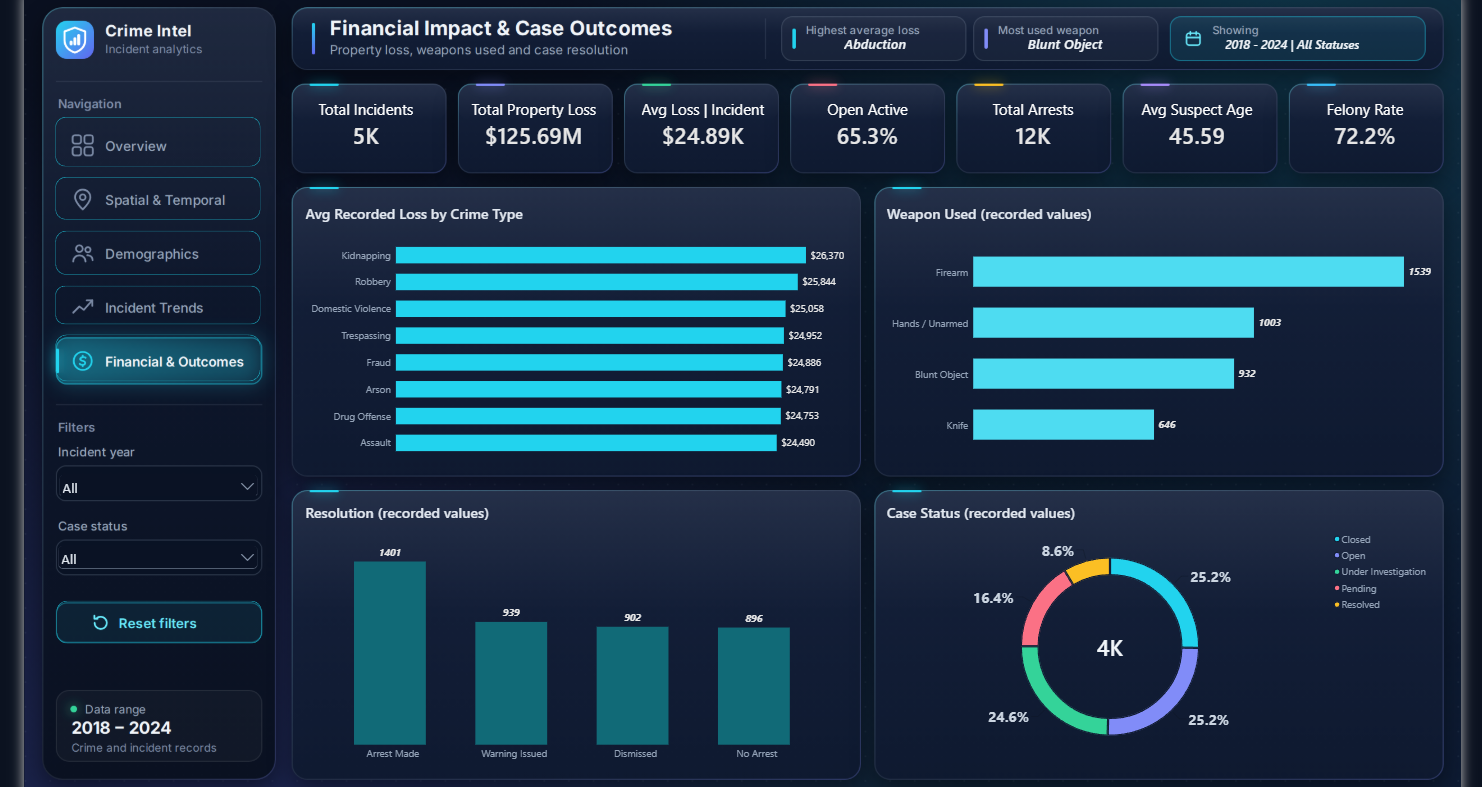

Layout of this report page (visuals, bound fields, positions):
{"tool":"powerbi","page":{"name":"Financial & Outcomes Analysis","canvas":[2560,1440],"ordinal":4},"visuals":[{"type":"slicer","fields":{"Values":["crime_incidents_cleaned.incident_year"]},"box":[58.9,854,363.2,41.7],"z":0},{"type":"slicer","fields":{"Values":["crime_incidents_cleaned.case_status"]},"box":[56.4,981.6,365.6,58.9],"z":1000},{"type":"clusteredColumnChart","title":"Resolution (recorded values)","fields":{"Category":["crime_incidents_cleaned.resolution"],"Y":["Measures (2).Total Incidents"]},"box":[485.9,895.7,991.4,493.3],"z":2000},{"type":"clusteredBarChart","title":"Weapon Used (recorded values)","fields":{"Category":["crime_incidents_cleaned.Weapon Group"],"Y":["Measures (2).Total Incidents"]},"box":[1521.5,363.2,1001.2,490.8],"z":3000},{"type":"donutChart","title":"Case Status (recorded values)","fields":{"Category":["crime_incidents_cleaned.case_status"],"Y":["Measures (2).Total Incidents"]},"box":[1521.5,895.7,1001.2,493.3],"z":4000},{"type":"clusteredBarChart","title":"Avg Recorded Loss by Crime Type","fields":{"Category":["crime_incidents_cleaned.crime_type"],"Y":["Measures (2).Avg Recorded Loss"]},"box":[485.9,363.2,991.4,490.8],"z":5000},{"type":"shape","box":[56.4,223.3,365.6,88.3],"z":6000},{"type":"shape","box":[56.4,424.5,365.6,78.5],"z":7000},{"type":"shape","box":[56.4,522.7,365.6,68.7],"z":8000},{"type":"shape","box":[56.4,611,365.6,83.4],"z":9000},{"type":"shape","box":[58.9,1084.7,365.6,76.1],"z":10000},{"type":"shape","box":[56.4,328.8,365.6,76.1],"z":11000},{"type":"cardVisual","fields":{"Data":["Measures (2).Total Incidents"]},"box":[485.9,176.7,247.9,135],"z":12000},{"type":"cardVisual","fields":{"Data":["Measures (2).Total Property Loss"]},"box":[777.9,176.7,262.6,135],"z":13000},{"type":"cardVisual","fields":{"Data":["Measures (2).Avg Loss Per Incident"]},"box":[1082.2,176.7,255.2,135],"z":14000},{"type":"cardVisual","fields":{"Data":["Measures (2).Total Arrests"]},"box":[1668.7,176.7,255.2,135],"z":15000},{"type":"cardVisual","fields":{"Data":["Measures (2).Open Active Pct"]},"box":[1371.8,176.7,262.6,135],"z":16000},{"type":"cardVisual","fields":{"Data":["Measures (2).Avg Suspect Age"]},"box":[1955.8,176.7,269.9,135],"z":17000},{"type":"cardVisual","fields":{"Data":["Measures (2).Felony Rate Pct"]},"box":[2255.2,176.7,267.5,135],"z":18000},{"type":"cardVisual","fields":{"Data":["Measures (2).Finance Fact 1"]},"box":[1358,54,316.6,73.6],"z":18001},{"type":"cardVisual","fields":{"Data":["Measures (2).Finance Fact 2"]},"box":[1696,54,316.6,73.6],"z":18002},{"type":"cardVisual","fields":{"Data":["Measures (2).Header Showing"]},"box":[2027,63.8,466.3,56.4],"z":18003}]}

Visuals, with their boxes on the page's 2560x1440 design canvas (x1, y1, x2, y2). These are canvas units, not pixel positions in the 1482x787 screenshot, which may show the page scaled, cropped or inside an application window:
slicer - crime_incidents_cleaned.incident_year: box=[59, 854, 422, 896]
slicer - crime_incidents_cleaned.case_status: box=[56, 982, 422, 1040]
"Resolution (recorded values)" clusteredColumnChart: box=[486, 896, 1477, 1389]
"Weapon Used (recorded values)" clusteredBarChart: box=[1522, 363, 2523, 854]
"Case Status (recorded values)" donutChart: box=[1522, 896, 2523, 1389]
"Avg Recorded Loss by Crime Type" clusteredBarChart: box=[486, 363, 1477, 854]
shape: box=[56, 223, 422, 312]
shape: box=[56, 424, 422, 503]
shape: box=[56, 523, 422, 591]
shape: box=[56, 611, 422, 694]
shape: box=[59, 1085, 424, 1161]
shape: box=[56, 329, 422, 405]
cardVisual - Measures (2).Total Incidents: box=[486, 177, 734, 312]
cardVisual - Measures (2).Total Property Loss: box=[778, 177, 1040, 312]
cardVisual - Measures (2).Avg Loss Per Incident: box=[1082, 177, 1337, 312]
cardVisual - Measures (2).Total Arrests: box=[1669, 177, 1924, 312]
cardVisual - Measures (2).Open Active Pct: box=[1372, 177, 1634, 312]
cardVisual - Measures (2).Avg Suspect Age: box=[1956, 177, 2226, 312]
cardVisual - Measures (2).Felony Rate Pct: box=[2255, 177, 2523, 312]
cardVisual - Measures (2).Finance Fact 1: box=[1358, 54, 1675, 128]
cardVisual - Measures (2).Finance Fact 2: box=[1696, 54, 2013, 128]
cardVisual - Measures (2).Header Showing: box=[2027, 64, 2493, 120]
